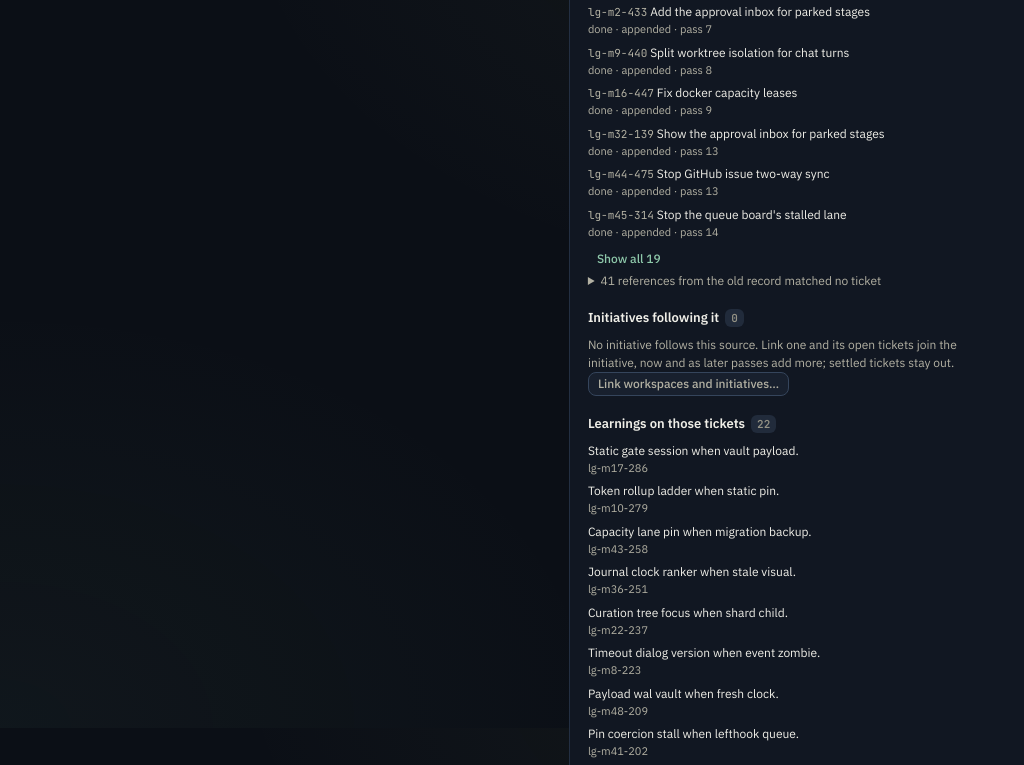
initiatives following a source › links several workspaces and initiatives at once from a modal, and says what each did
The width and height of the screenshot is (1024, 765).
(page scrolled)
Expected: the text "No initiative follows this source" is shown, [588, 337, 957, 370]
Click the button "Link workspaces and initiatives…": click(689, 384) [588, 372, 789, 396]
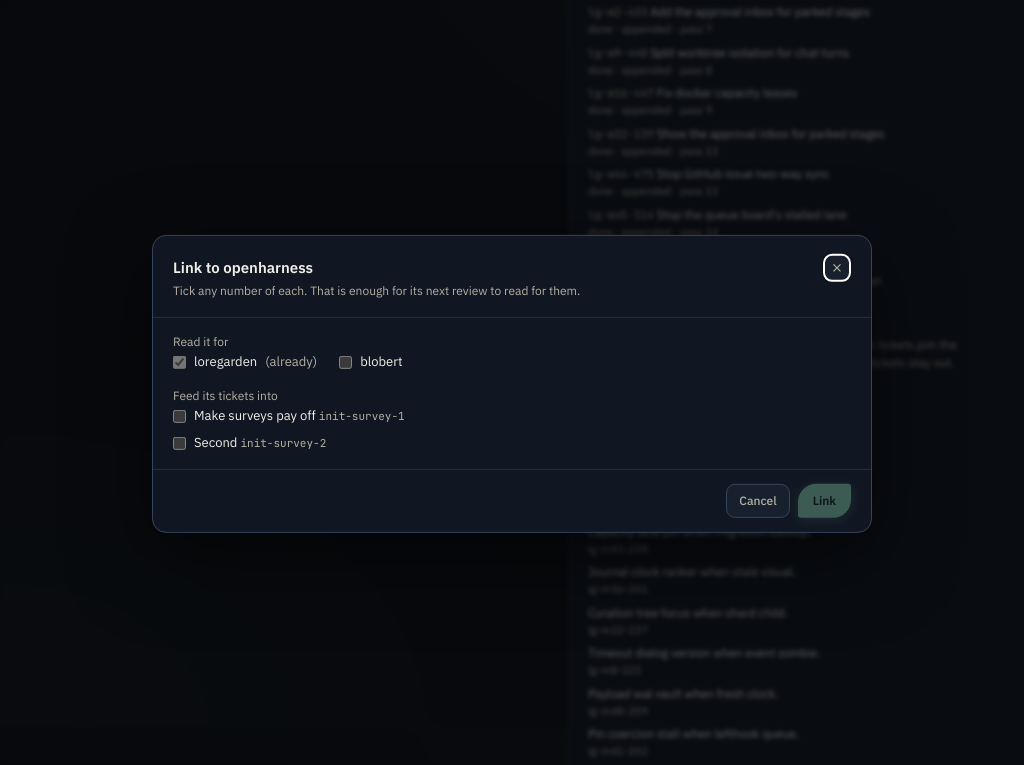
Click the checkbox labelled "blobert": click(346, 363) [339, 356, 352, 369]
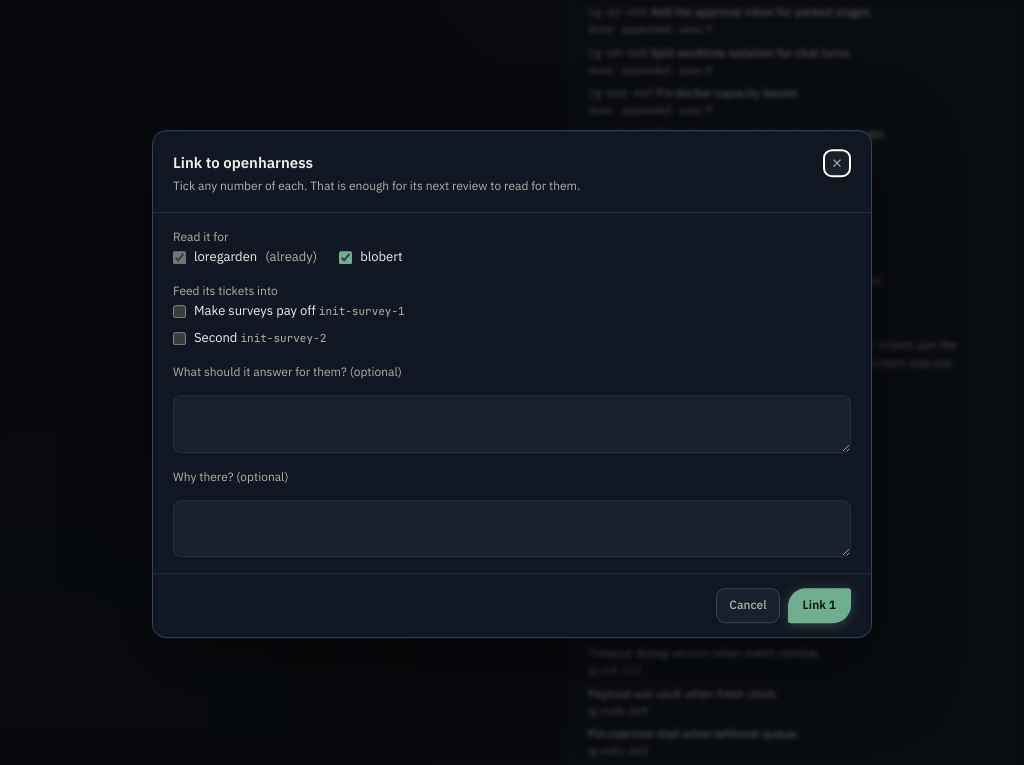
Click the checkbox labelled "Make surveys pay off init-survey-1": click(180, 312) [173, 305, 186, 318]
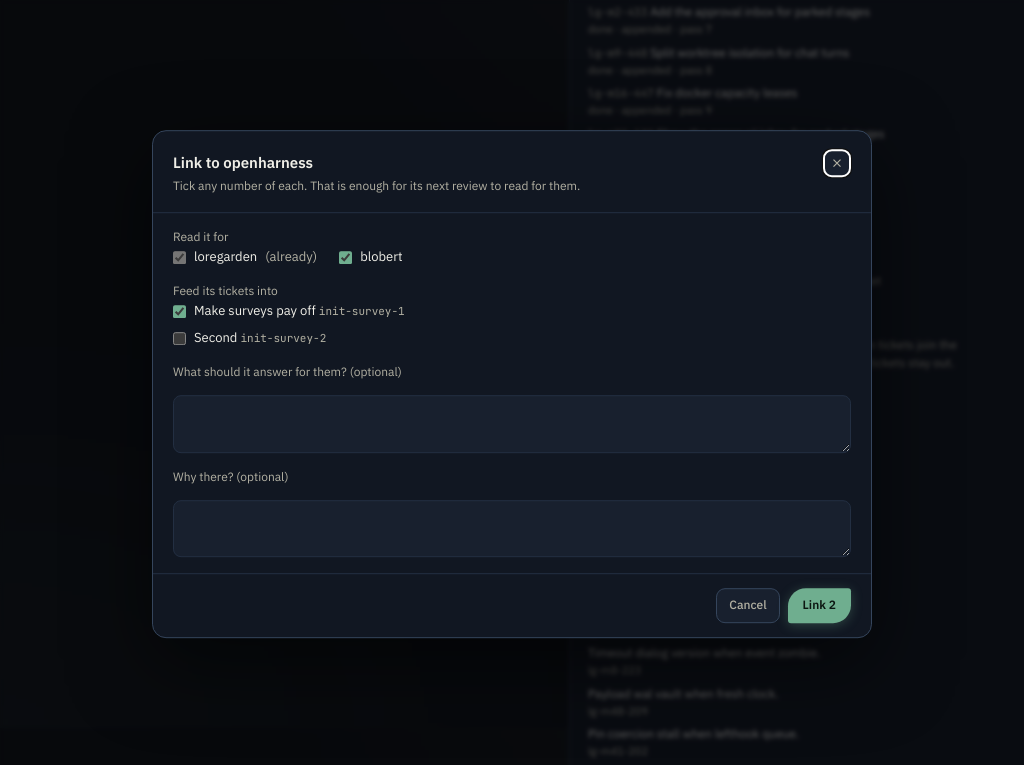
Click the checkbox labelled "Second init-survey-2": click(180, 339) [173, 332, 186, 345]
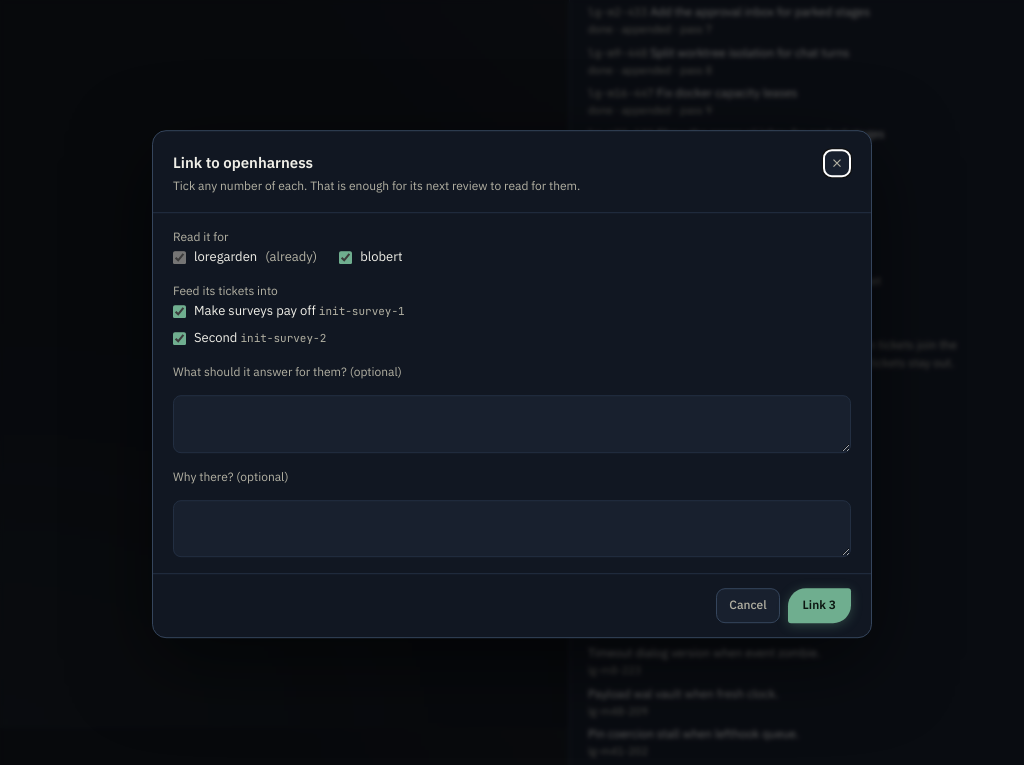
Click the button "Link 3": click(819, 606) [788, 588, 851, 623]
(page scrolled)
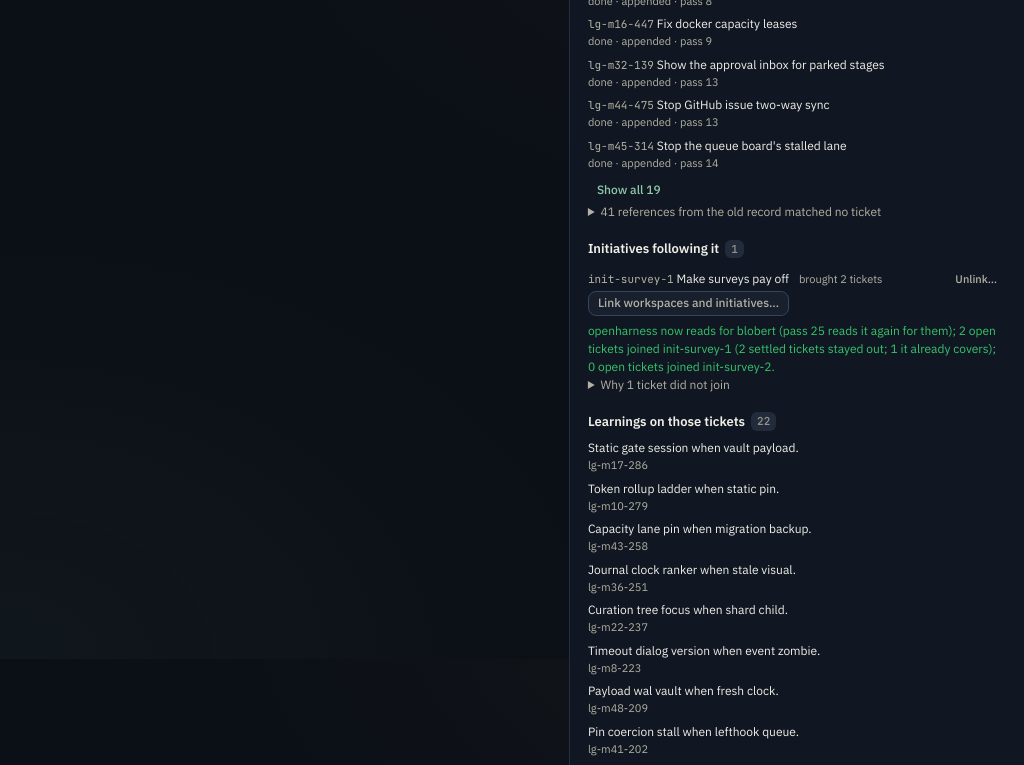
Now the dialog is gone
Now the link "init-survey-1 Make surveys pay off" is shown, box [588, 270, 789, 288]
Now the heading "Why 1 ticket did not join" is shown, box [601, 377, 730, 392]
